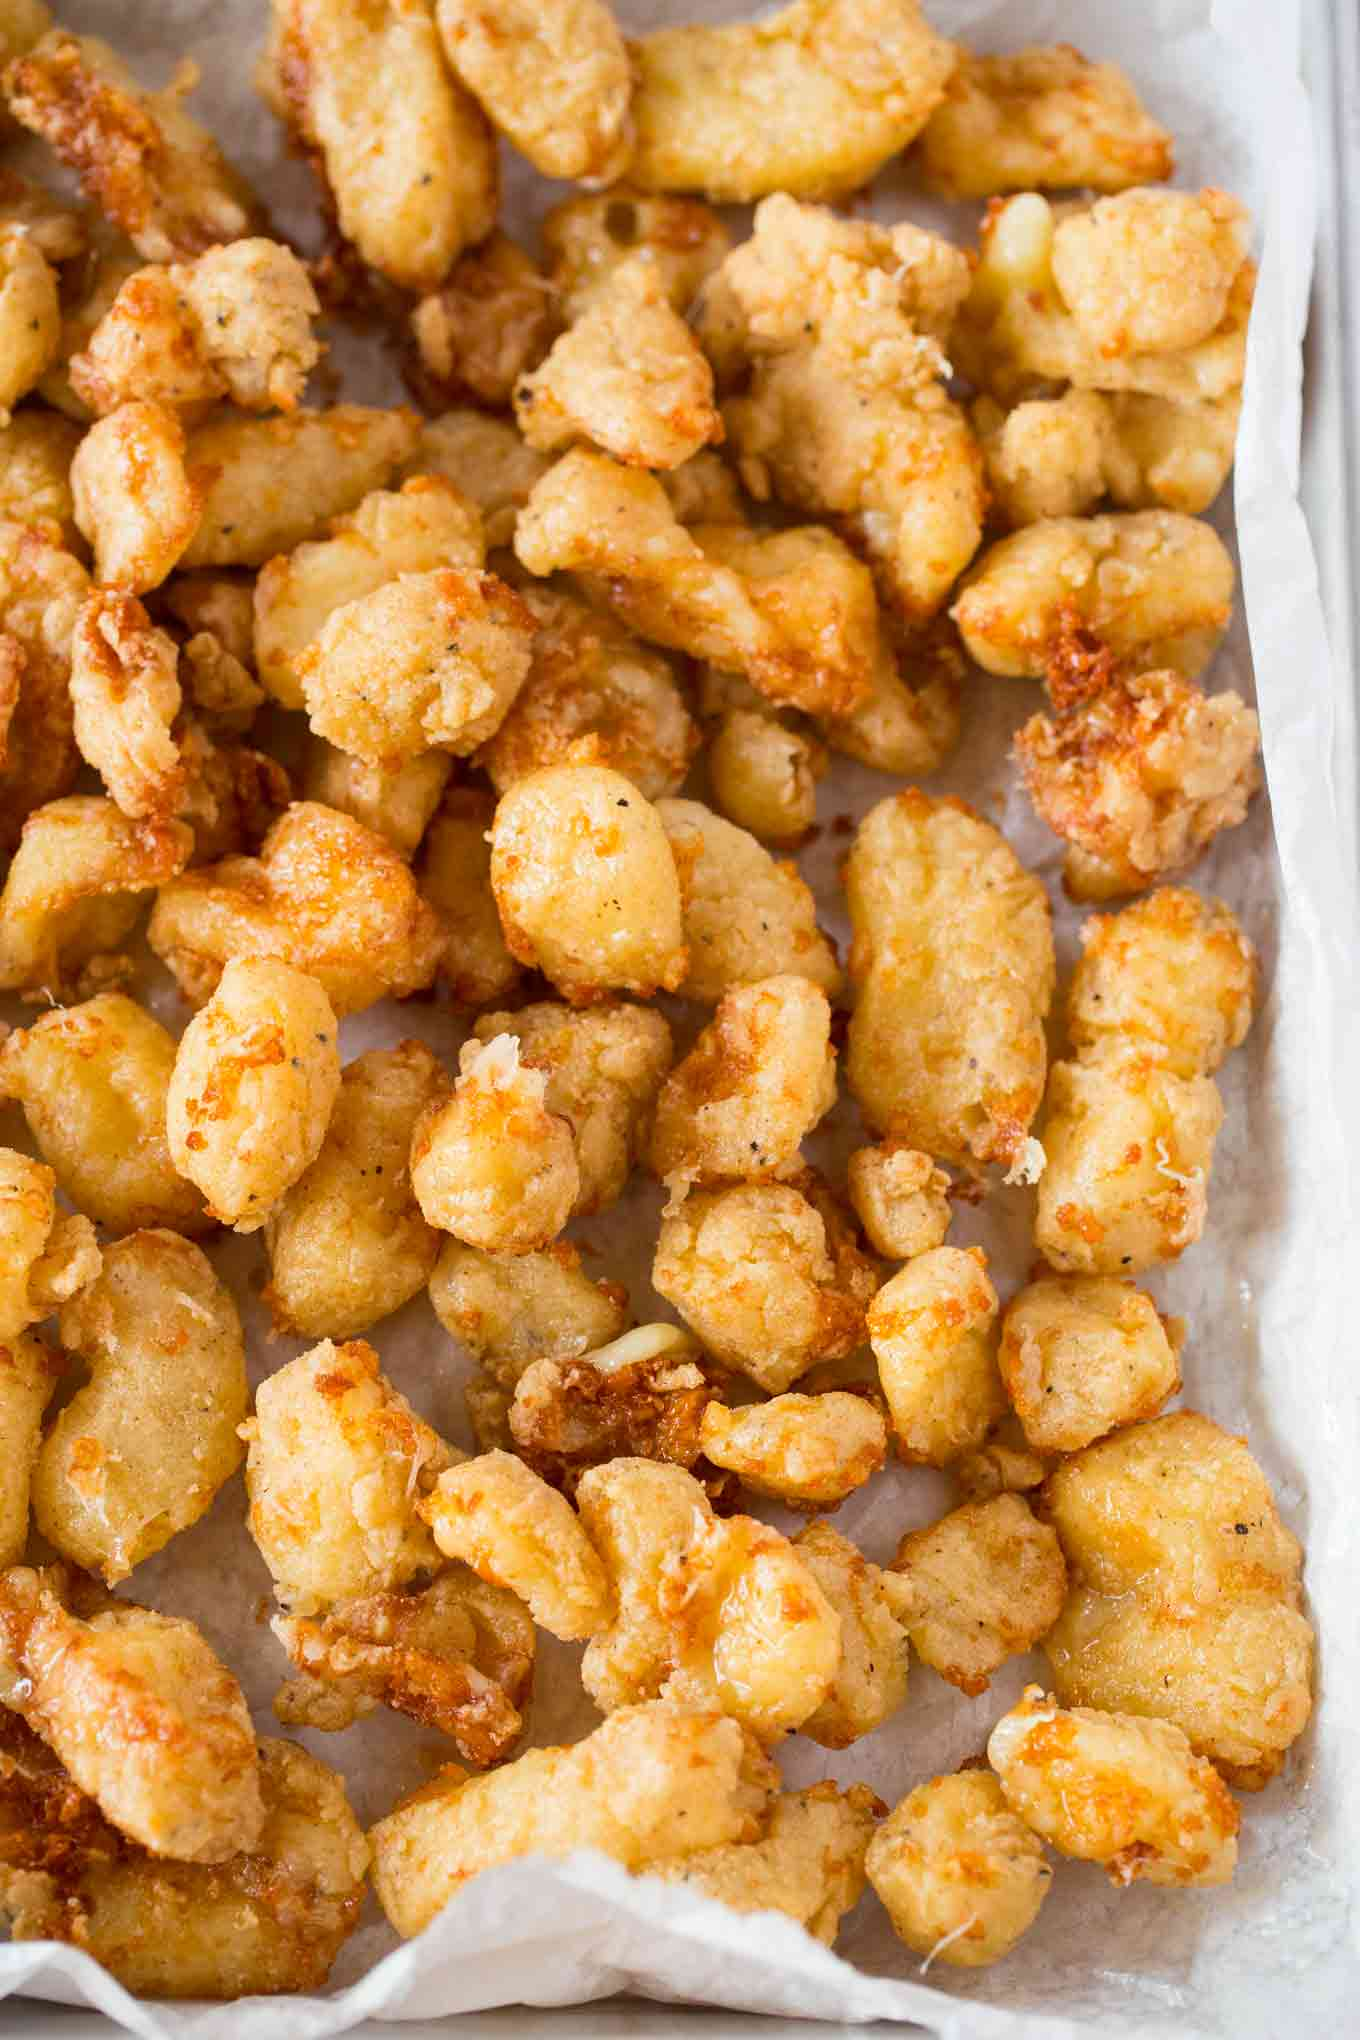cheese: (446, 275, 993, 776), (225, 763, 656, 1299)
